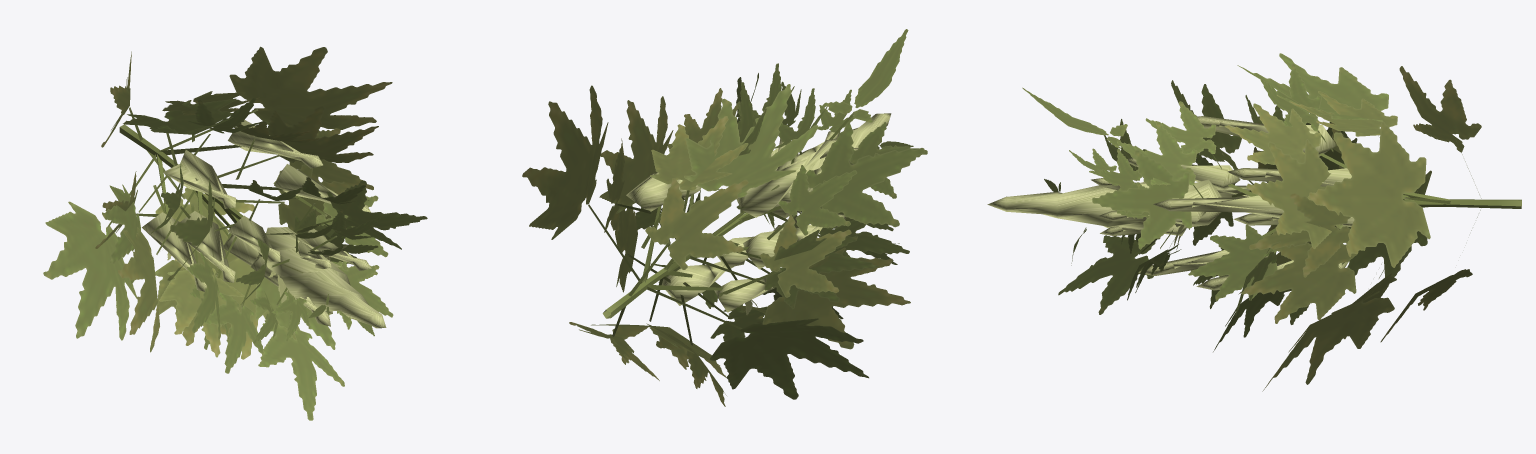
Rendered from p_frosty_tree_ripe_c1_cards.obj.
The picture shows the model from 3 angles, left to right: view 1: azimuth 30°, elevation 25°; view 2: azimuth 150°, elevation 25°; view 3: azimuth 270°, elevation 25°; orthographic projection. The views are drawn at different scales.
Bounding box in the file's own units: 1.63 × 1.31 × 1.81.
1 material, 1 textured.
